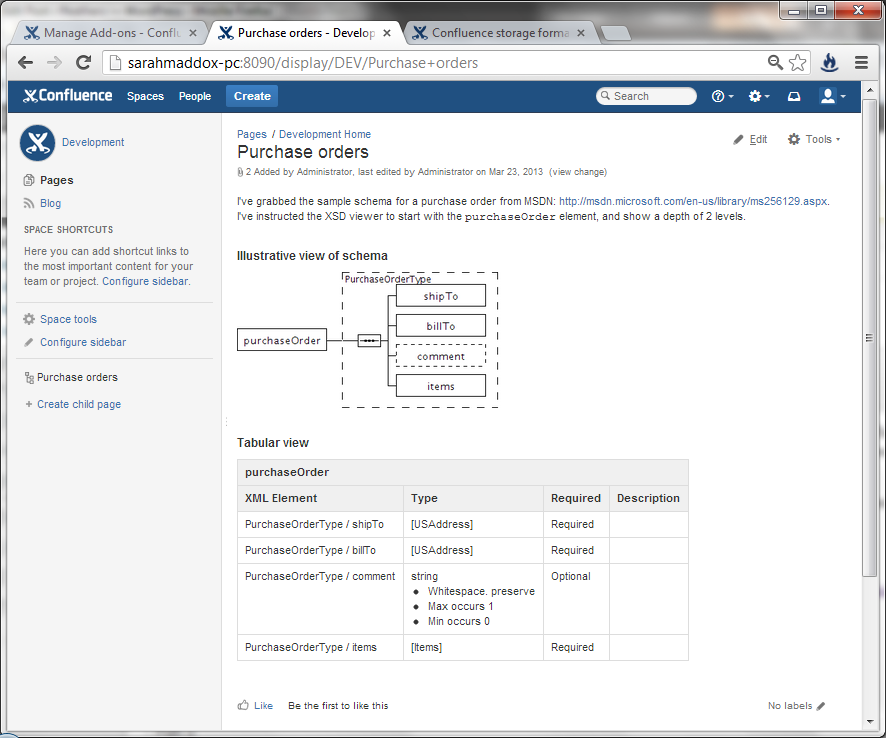button_create: (224, 83, 282, 109)
search_box: (593, 81, 699, 110)
